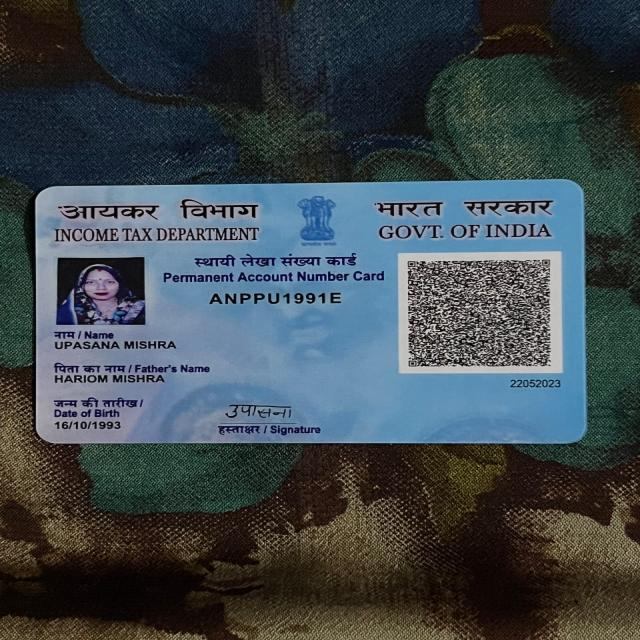pan_card: (36, 179, 588, 442)
